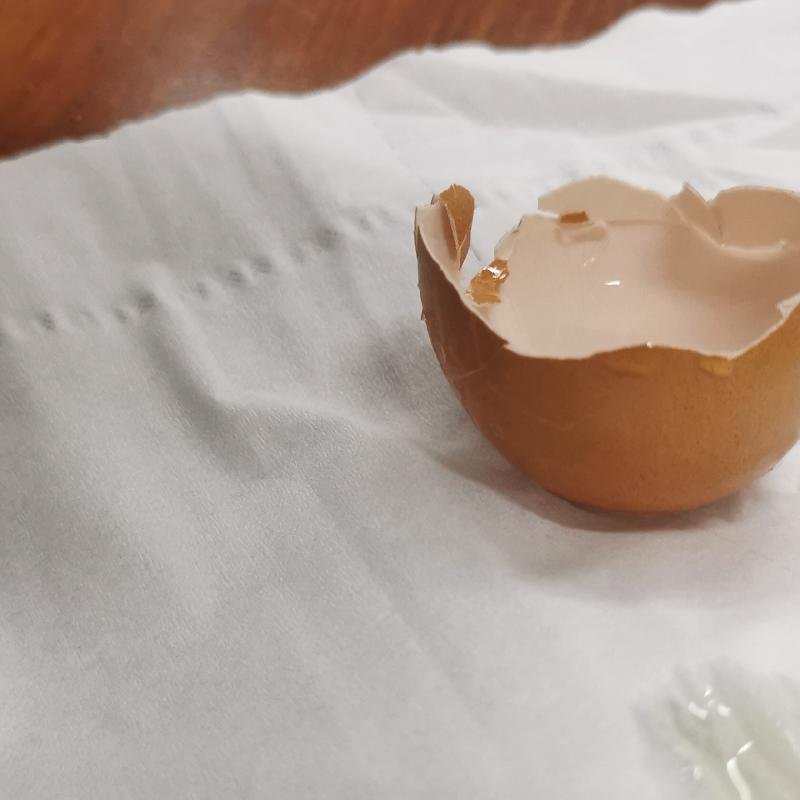eggshell: (398, 180, 800, 514)
